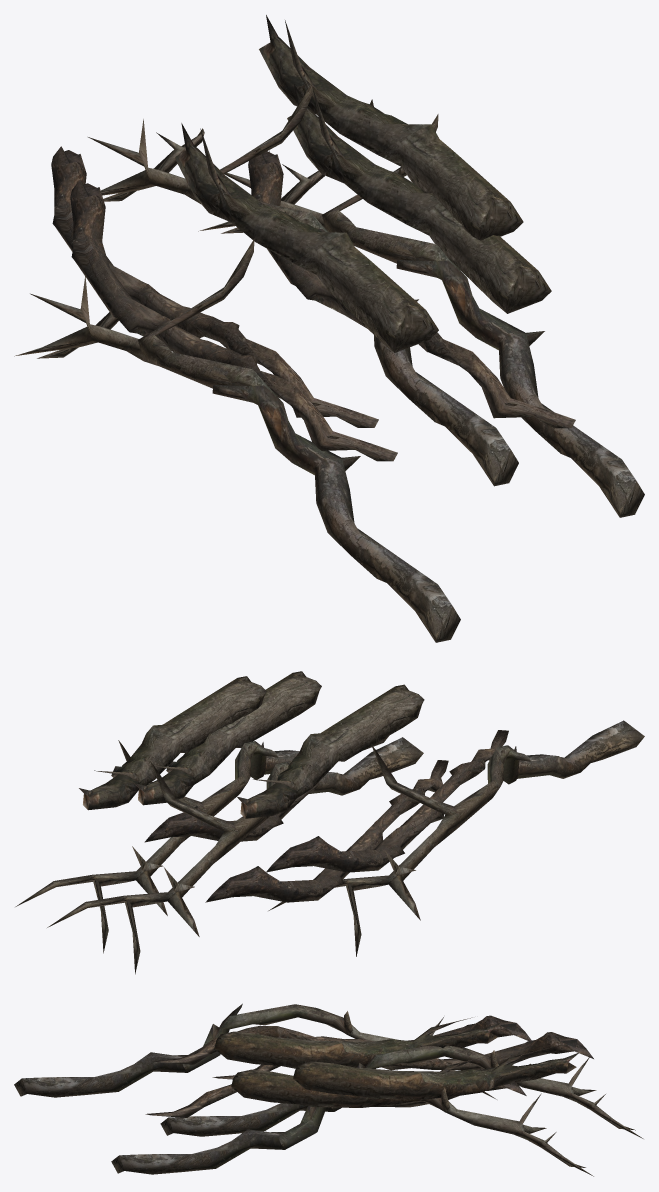
File: branch_pile.glb
3 views of the same model, one above another, from view 1: azimuth 30°, elevation 25°; view 2: azimuth 150°, elevation 25°; view 3: azimuth 270°, elevation 25° (orthographic). The views are drawn at different scales.
Parts seen in each view (by area): view 1: branch_pile; view 2: branch_pile; view 3: branch_pile.
Boxes of the visible parts, x1,y1,x2,y2 form: branch_pile: (14,15,644,642); branch_pile: (15,671,644,974); branch_pile: (14,1003,643,1176).
Bounding box in the file's own units: 1.37 × 0.6712 × 2.87.
Materials: 1 (1 with a texture image).
